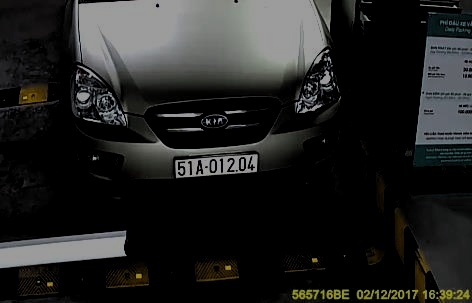plate: (170, 154, 261, 177)
